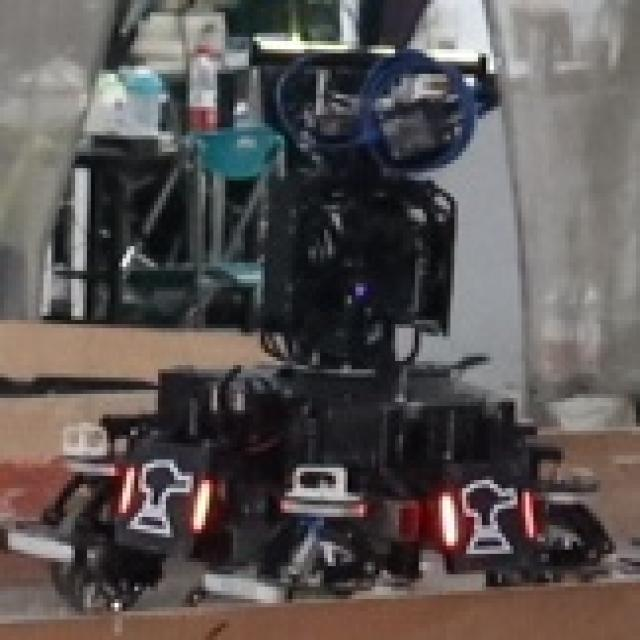Rs: (439, 464, 541, 566), (119, 451, 214, 546)
